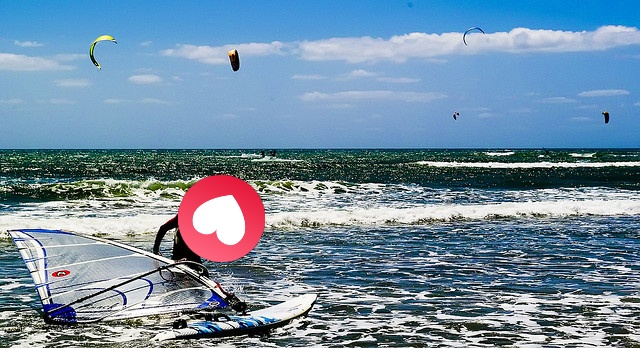love: (178, 175, 265, 262)
